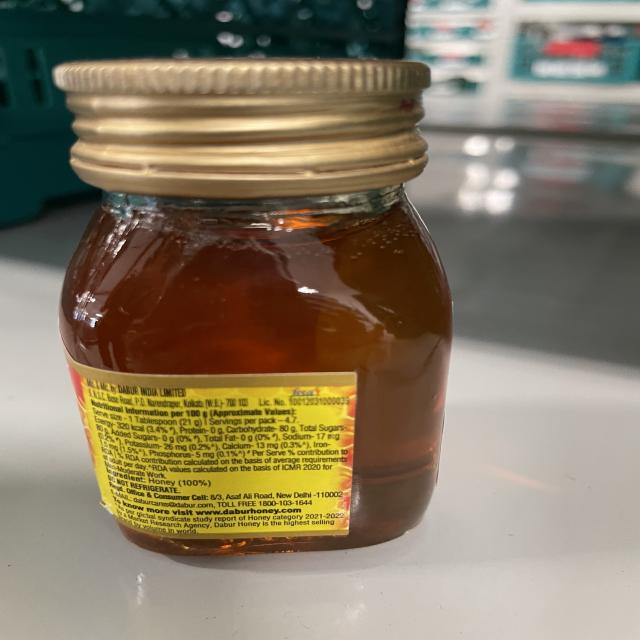object_name: (53, 61, 449, 543)
